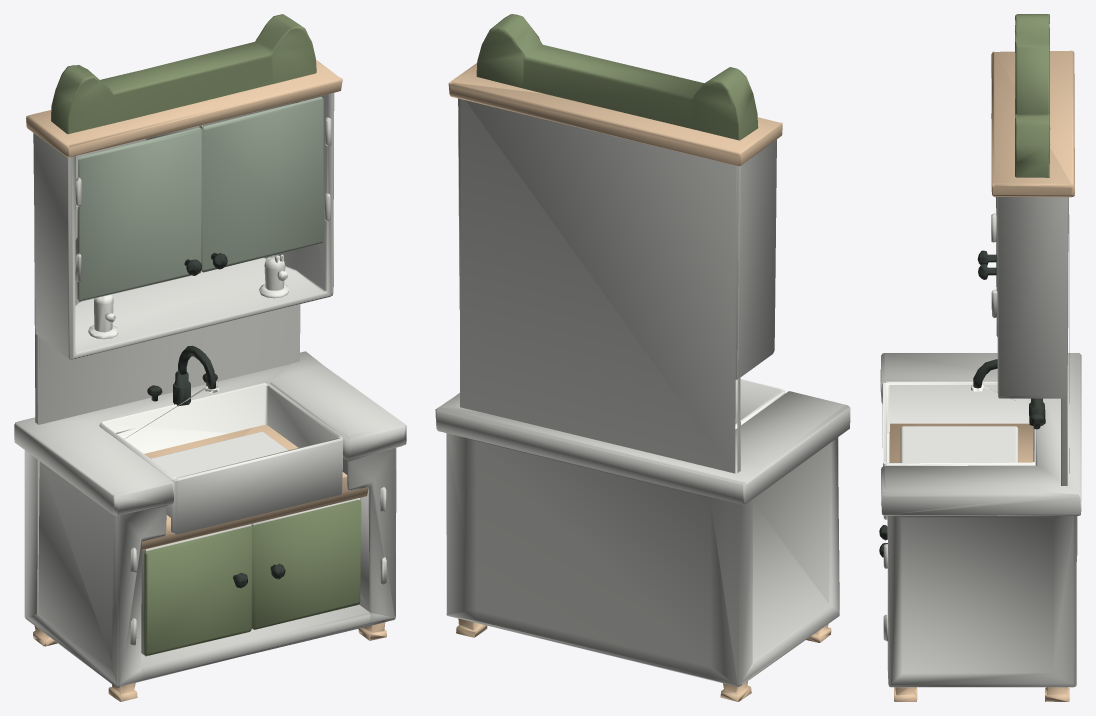
File: bath_vanity.glb
The picture shows the model from 3 angles, left to right: view 1: azimuth 30°, elevation 25°; view 2: azimuth 150°, elevation 25°; view 3: azimuth 270°, elevation 25°; orthographic projection. The views are drawn at different scales.
Bounding box in the file's own units: 1.8 × 3.35 × 1.08.
